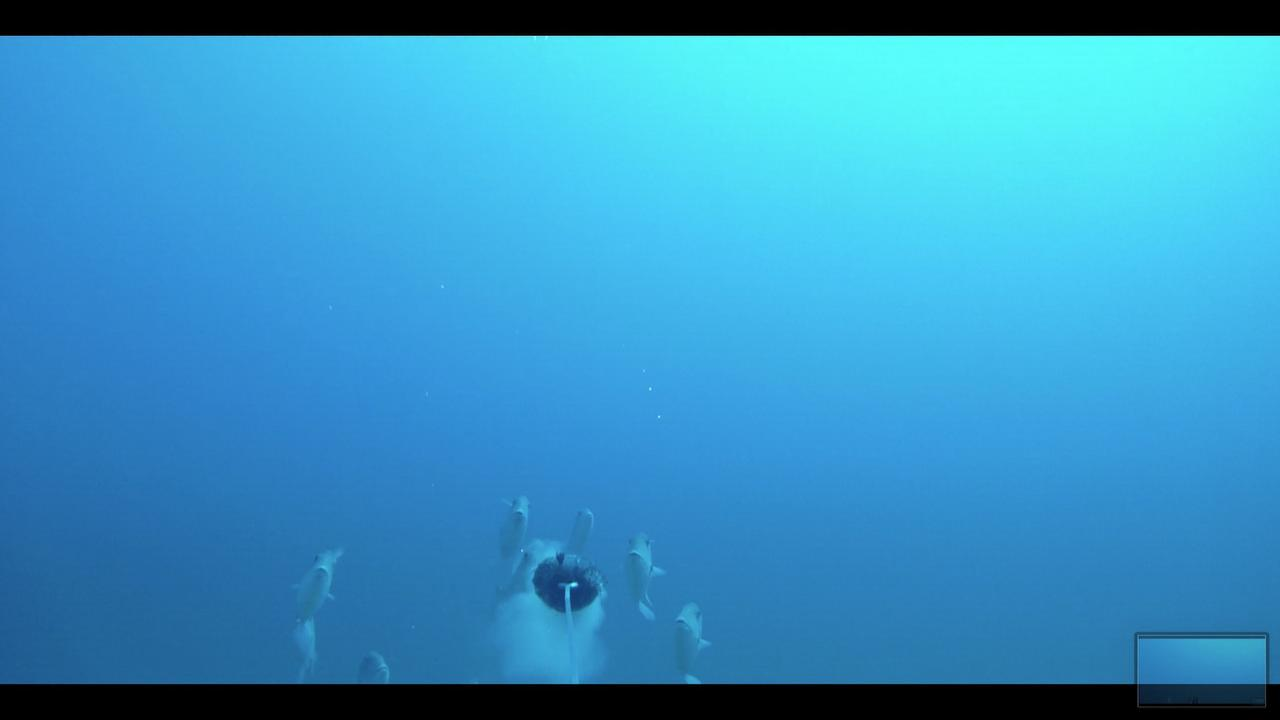balistes: (285, 541, 346, 633), (615, 526, 666, 621), (483, 492, 531, 572), (671, 596, 714, 681), (350, 647, 393, 681)
